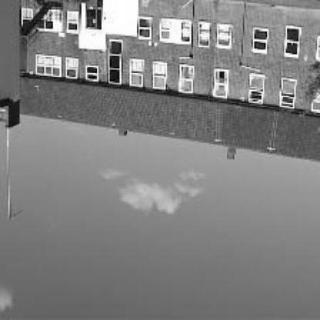other: (78, 5, 146, 59)
